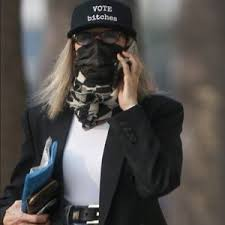mask: (75, 39, 125, 83)
